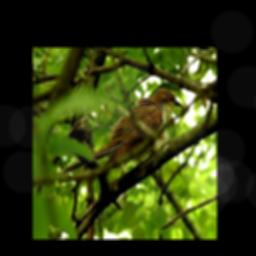Cuckoo: (58, 85, 183, 176)
